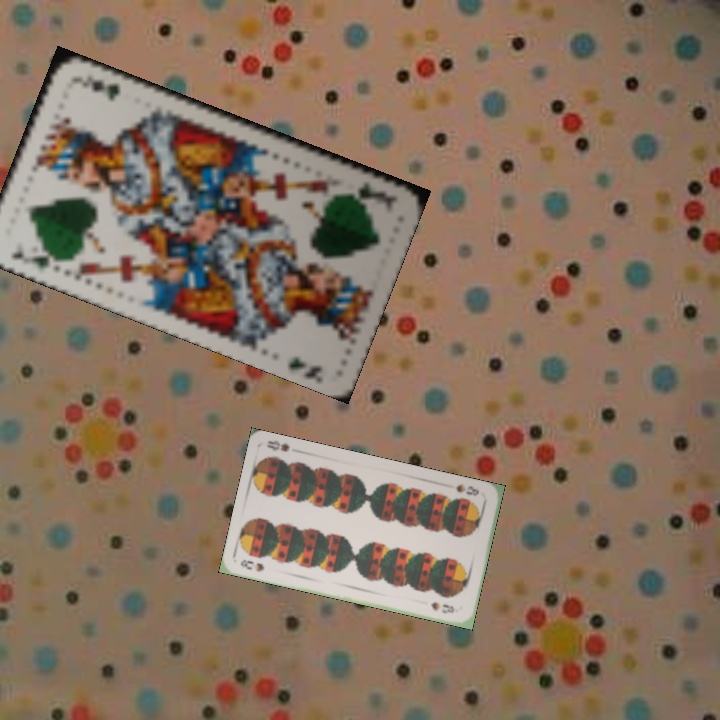GK: (7, 240, 65, 272), (342, 176, 394, 202)
S8: (236, 555, 267, 574), (451, 480, 482, 498)
